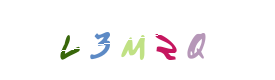2: (111, 0, 191, 80)
3: (89, 0, 169, 80)
L: (27, 0, 107, 80)
M: (97, 0, 177, 80)
Q: (126, 0, 206, 80)
